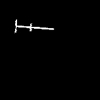double_crochet: (15, 20, 52, 31)
